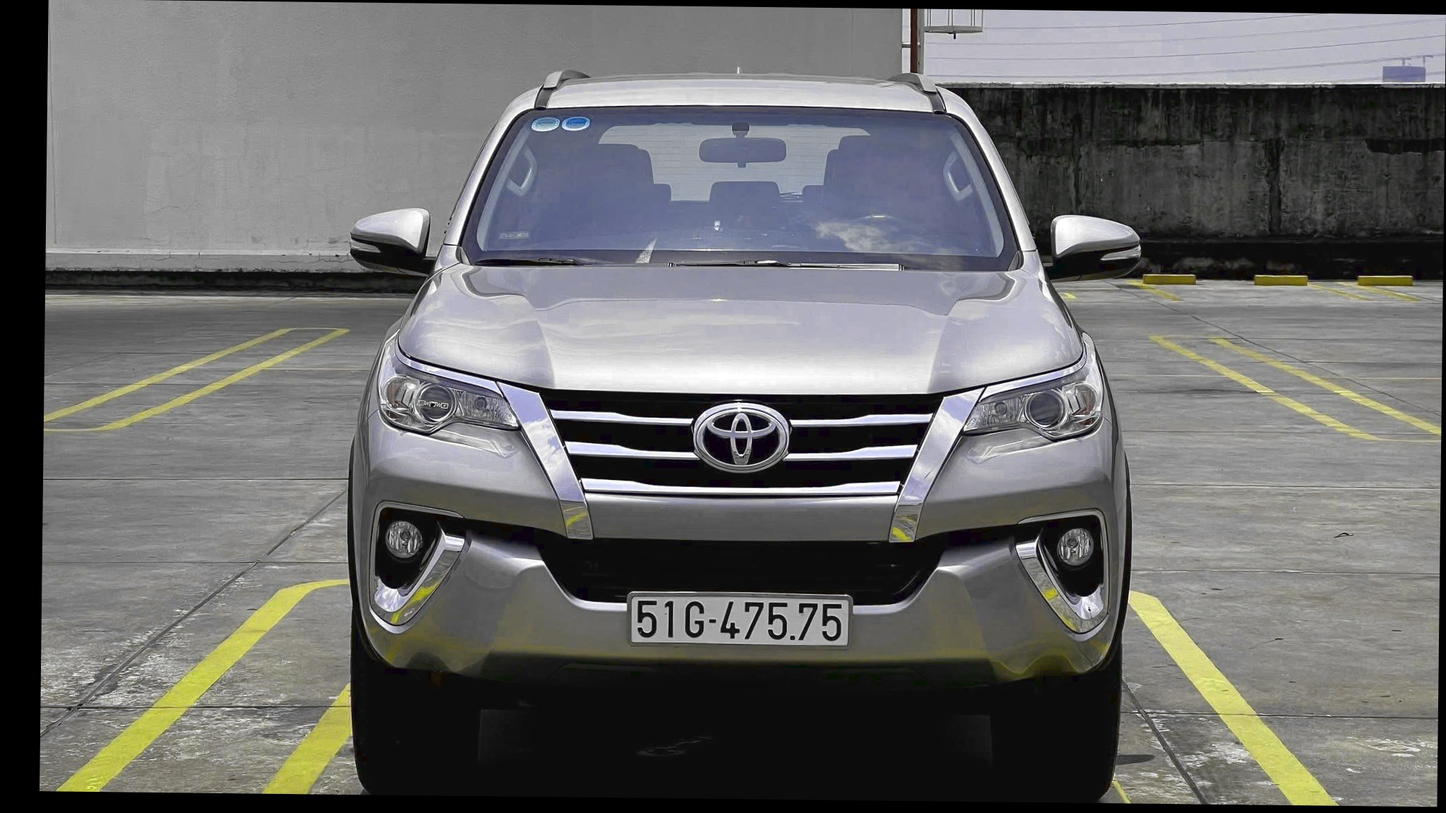Bien-so: (633, 595, 849, 643)
